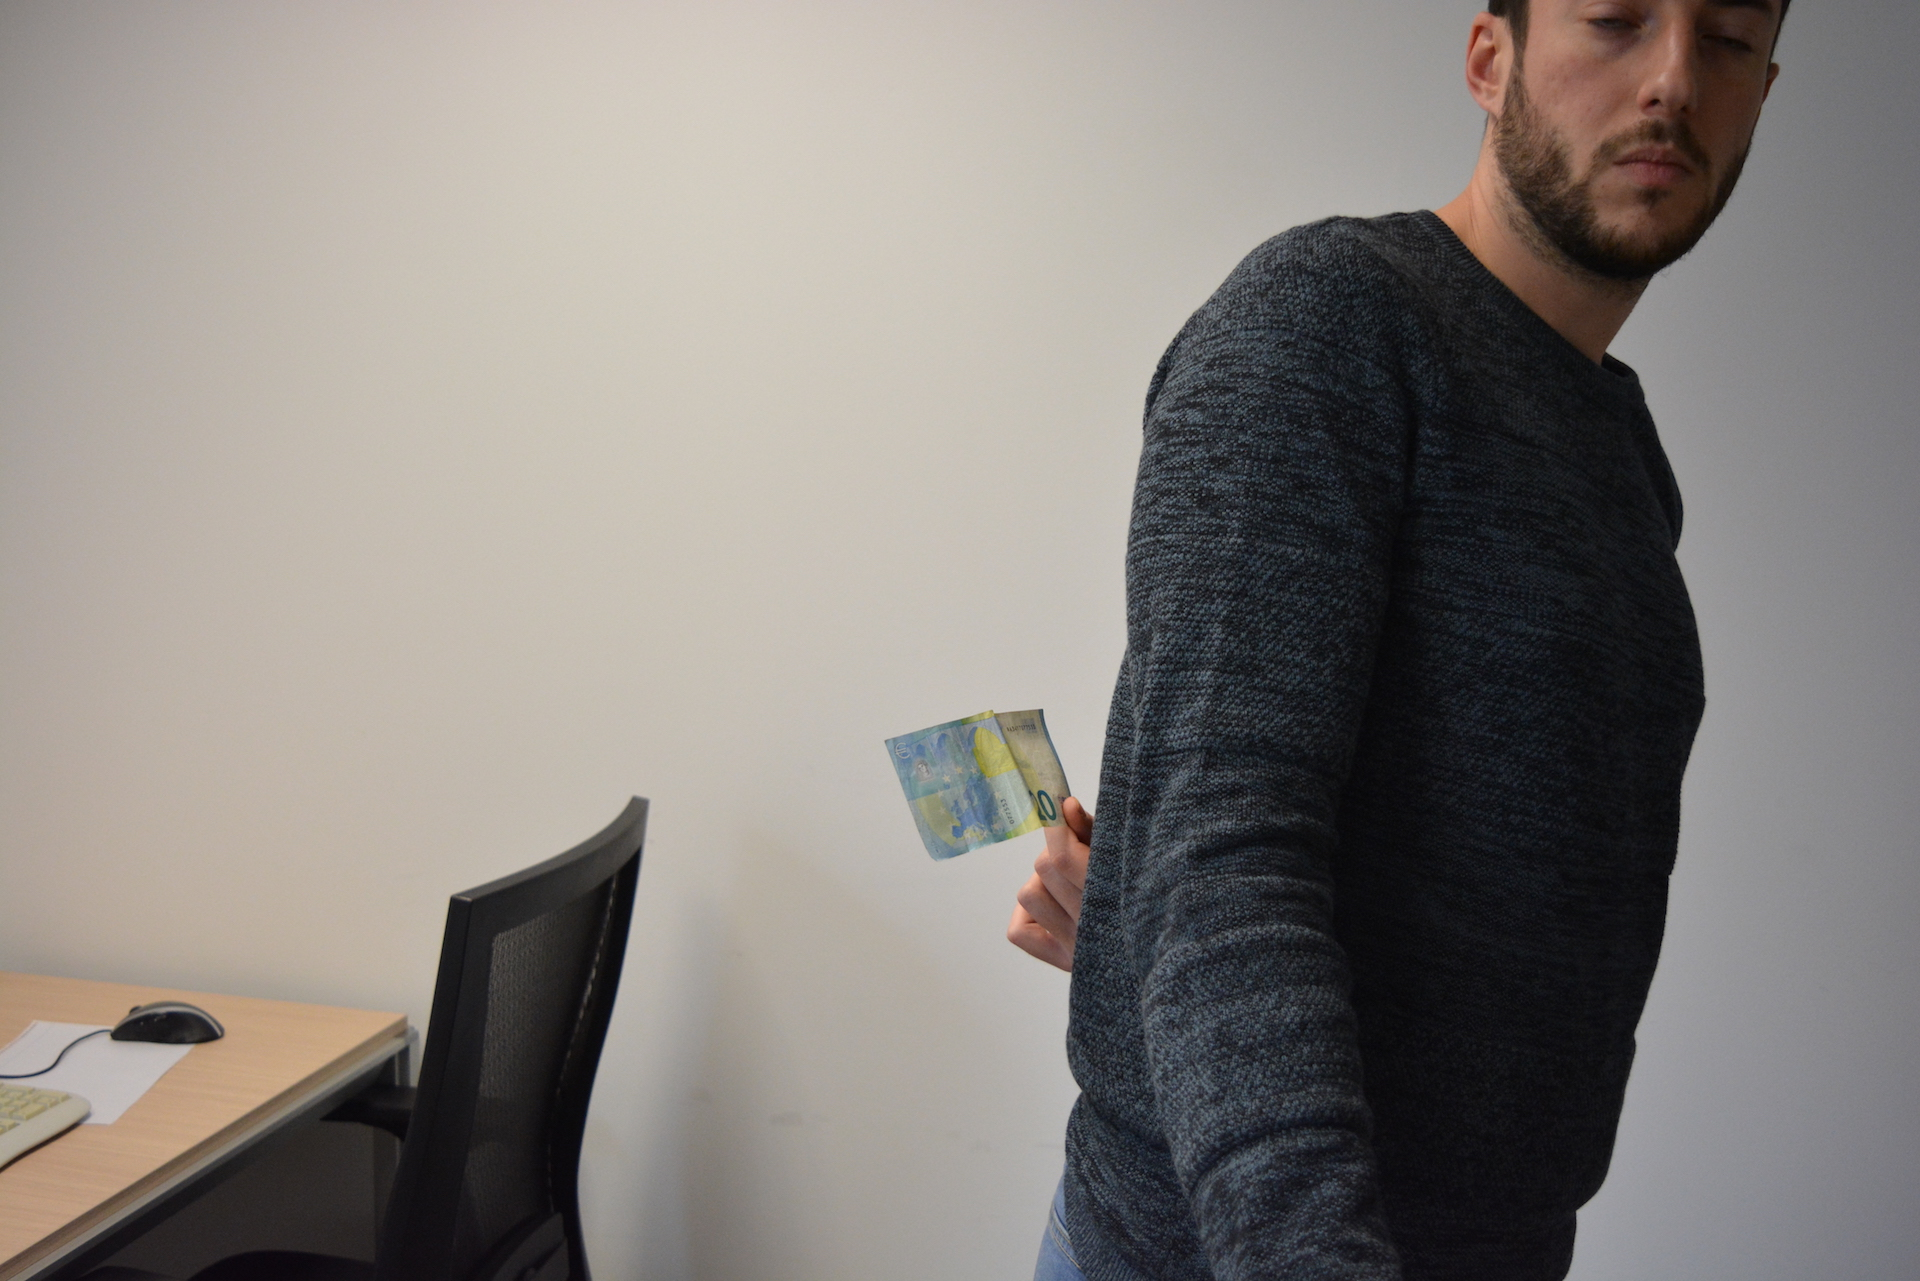billete: (884, 708, 1072, 864)
